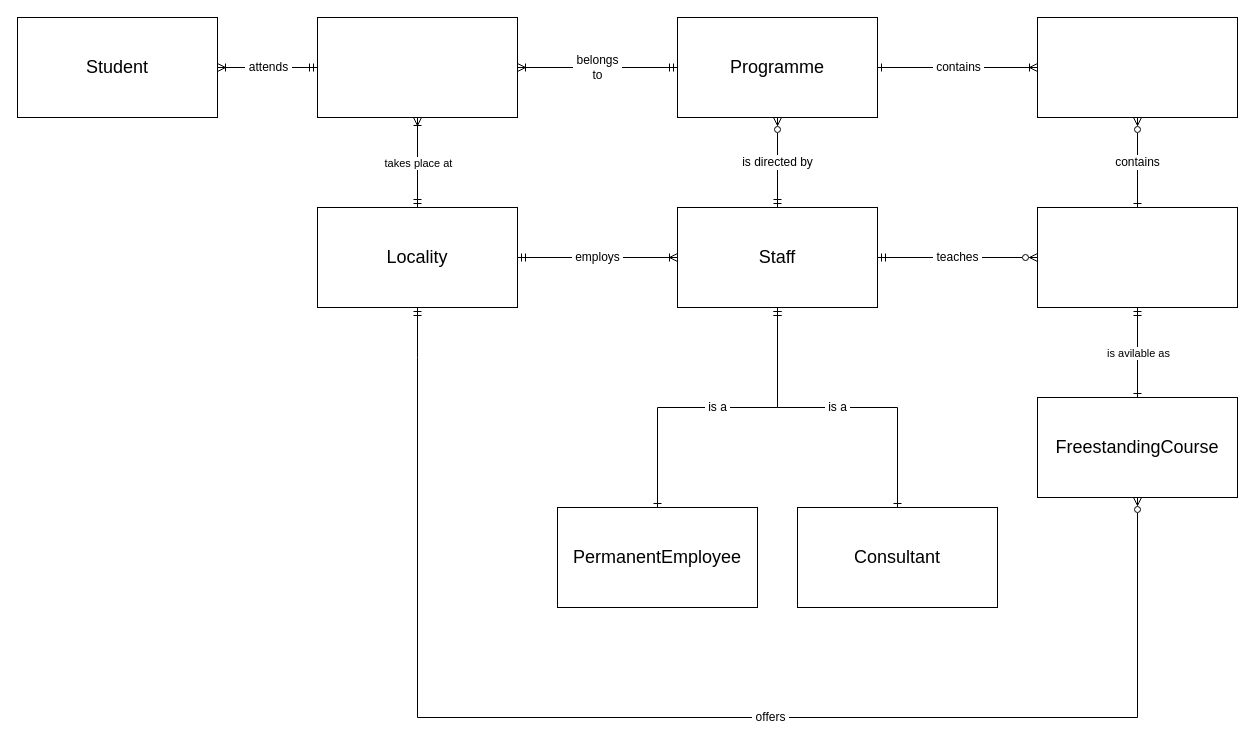
Some shapes in this 1255 by 744 pixel diagram are drawn without their labels. The centre of each missing label's shape, as x and y in pixels:
Course: point 1137,257
ProgrammeCourse: point 1137,67
SchoolClass: point 417,67
